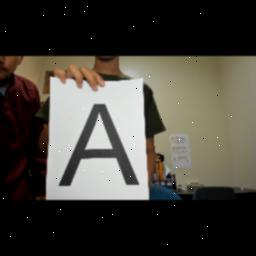a: (54, 100, 144, 192)
